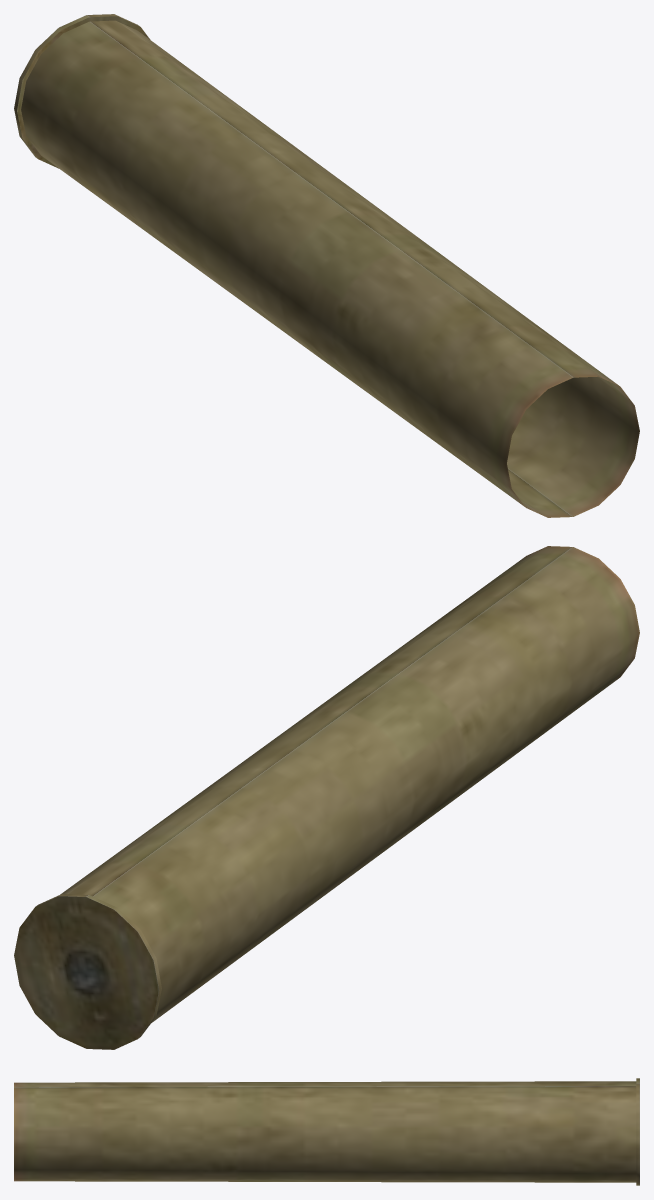
File: military_flak88_emptyshell.glb
The picture shows the model from 3 angles, top to bottom: view 1: azimuth 30°, elevation 25°; view 2: azimuth 150°, elevation 25°; view 3: azimuth 270°, elevation 25°; orthographic projection. The views are drawn at different scales.
Size of the model in its own units: 3.86 by 3.86 by 22.44.
Materials: 1 (1 with a texture image).
